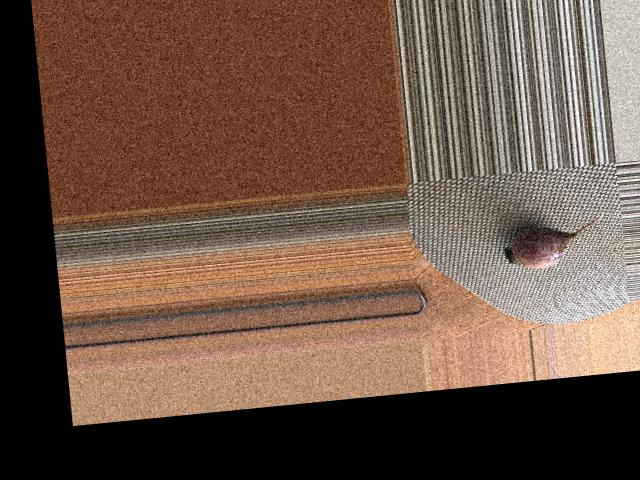beet: (500, 211, 607, 271)
